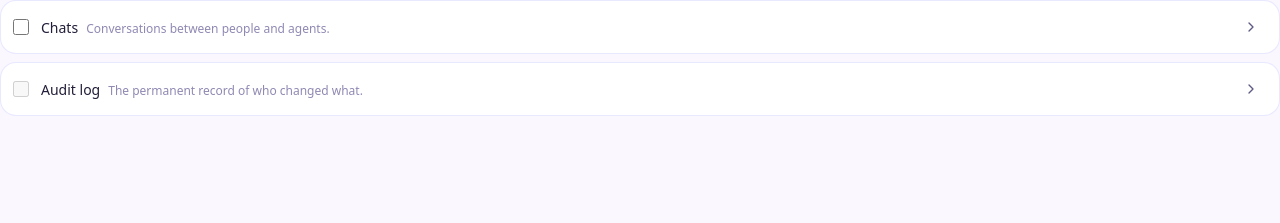
Test case: ScopeTree › shows scopes above the caller's role as disabled, with the reason
Click the button named "Show Audit log permissions": (1251, 89) [1235,73,1267,105]
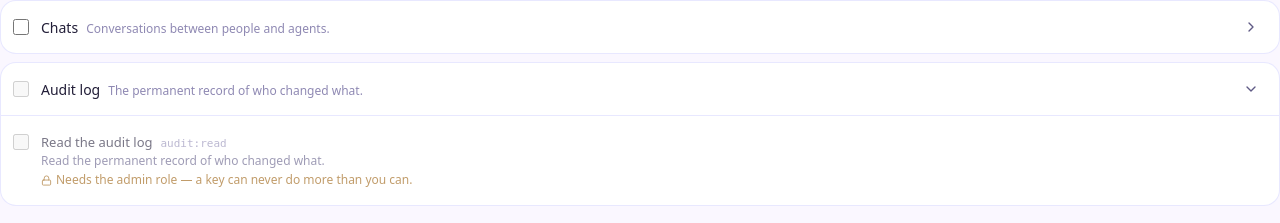
Expected: the checkbox labelled "Audit log" is disabled, [13,81,29,97]
Expected: the checkbox labelled "Read the audit log" is disabled, [13,134,29,150]
Expected: the text "Needs the admin role — a key can never do more than you can." is shown, [41,172,412,188]
